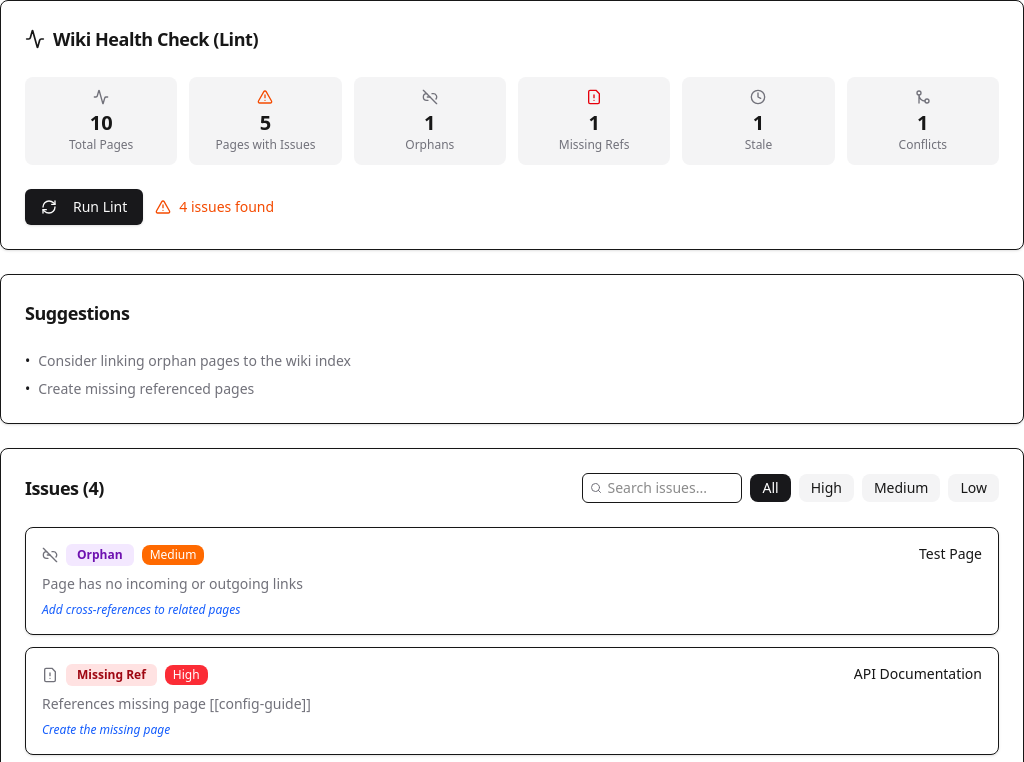
Test: WikiLint Search and Filter › clears search and shows all issues
This screenshot has width=1024, height=762.
Expected: the text "Test Page" is shown, [919,544,982,564]
Type "API" into the field with placeholder "Search issues..." at x=662, y=488, box [582,473,742,503]
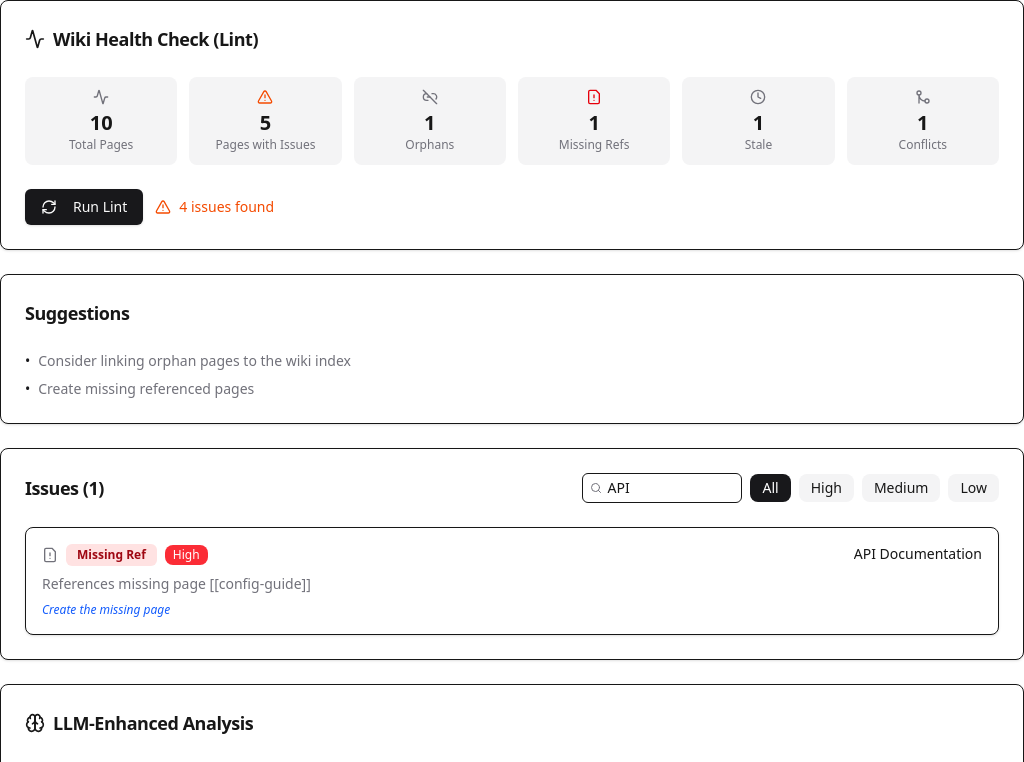
Expected: the text "Test Page" is gone
Clear the field with placeholder "Search issues..." at x=662, y=488, box [582,473,742,503]
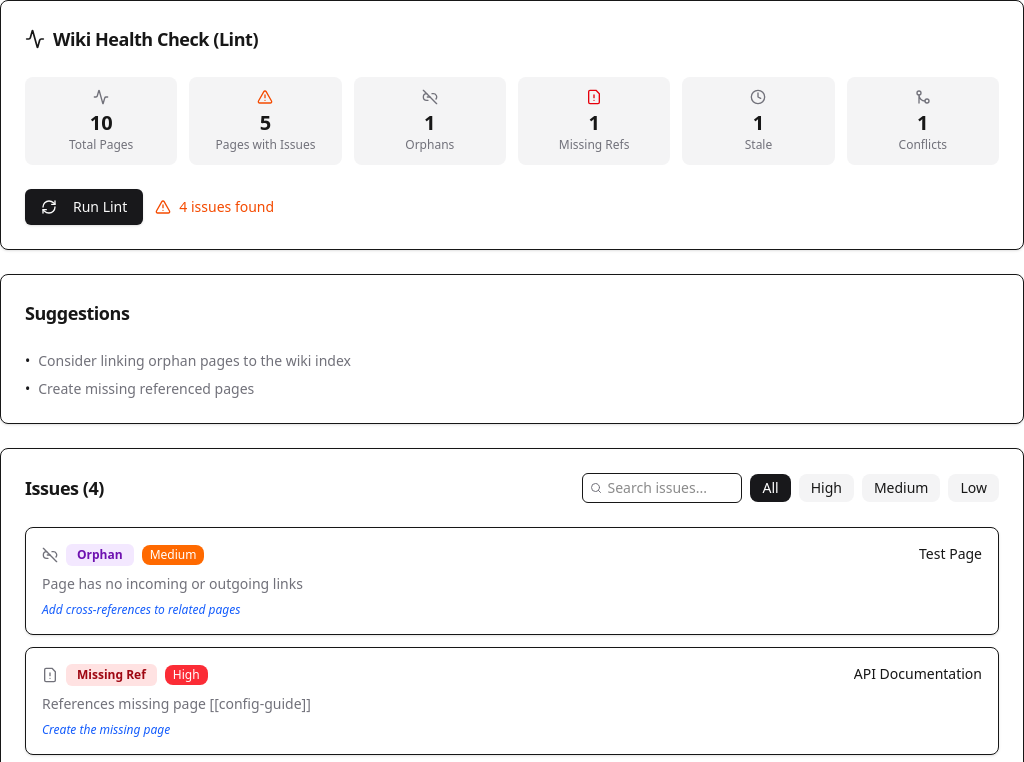
Expected: the text "Test Page" is shown, [919,544,982,564]
